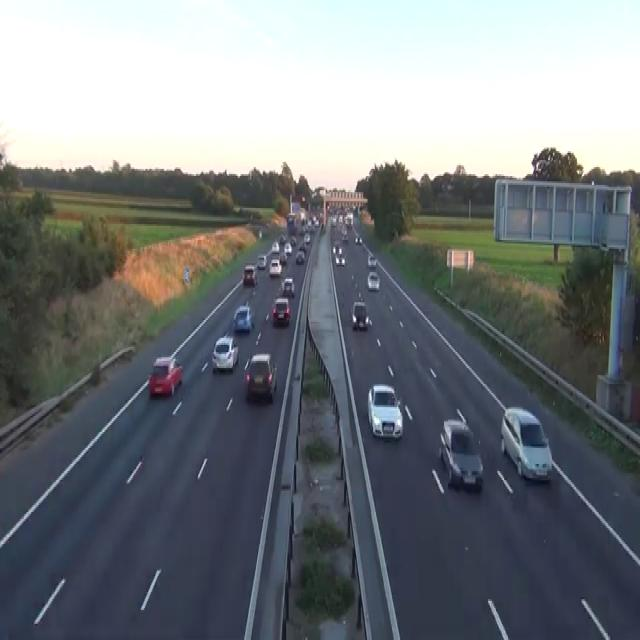Car: (500, 405, 552, 482), (439, 414, 483, 491), (367, 384, 403, 439), (244, 352, 277, 400), (148, 356, 183, 396), (211, 334, 238, 372), (351, 300, 371, 330), (233, 304, 253, 332), (272, 297, 290, 325), (280, 275, 295, 297), (243, 263, 257, 286), (367, 270, 380, 290), (269, 258, 282, 276), (335, 245, 345, 265), (332, 240, 342, 256), (367, 252, 376, 266), (257, 254, 266, 268), (295, 251, 304, 263), (271, 240, 279, 252), (284, 242, 292, 254), (341, 229, 348, 242), (279, 251, 286, 263), (312, 215, 319, 226), (354, 234, 362, 243), (290, 235, 296, 245), (304, 233, 310, 243), (279, 233, 285, 243), (298, 242, 305, 250), (331, 215, 336, 226), (338, 214, 343, 222), (258, 230, 262, 238)
